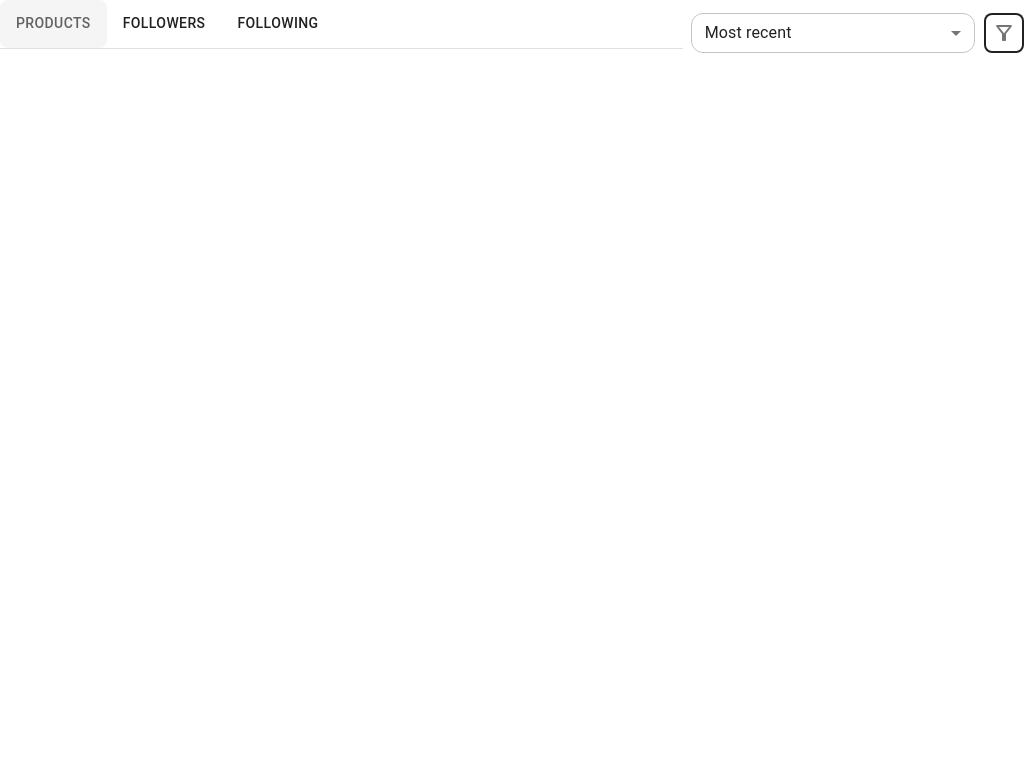
Test: ContentHeader › filter products category when selected checkbox filter product modal correctly
The width and height of the screenshot is (1024, 768).
Click the button with test id "ProductFilter_IconButton".
click(1004, 32)  # box top-left (984, 12), bottom-right (1023, 52)
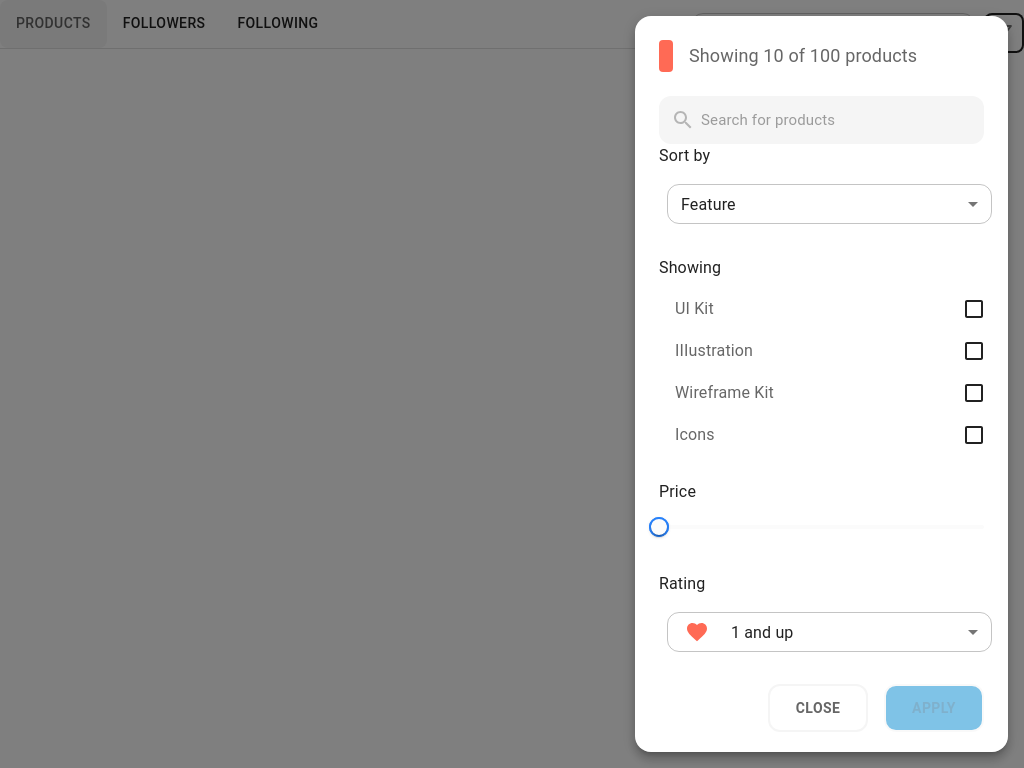
Now the element with test id "ProductFilter_Popover" is shown, box top-left (635, 16), bottom-right (1008, 752)
Click the text "UI Kit".
click(694, 309)  # box top-left (675, 297), bottom-right (714, 321)
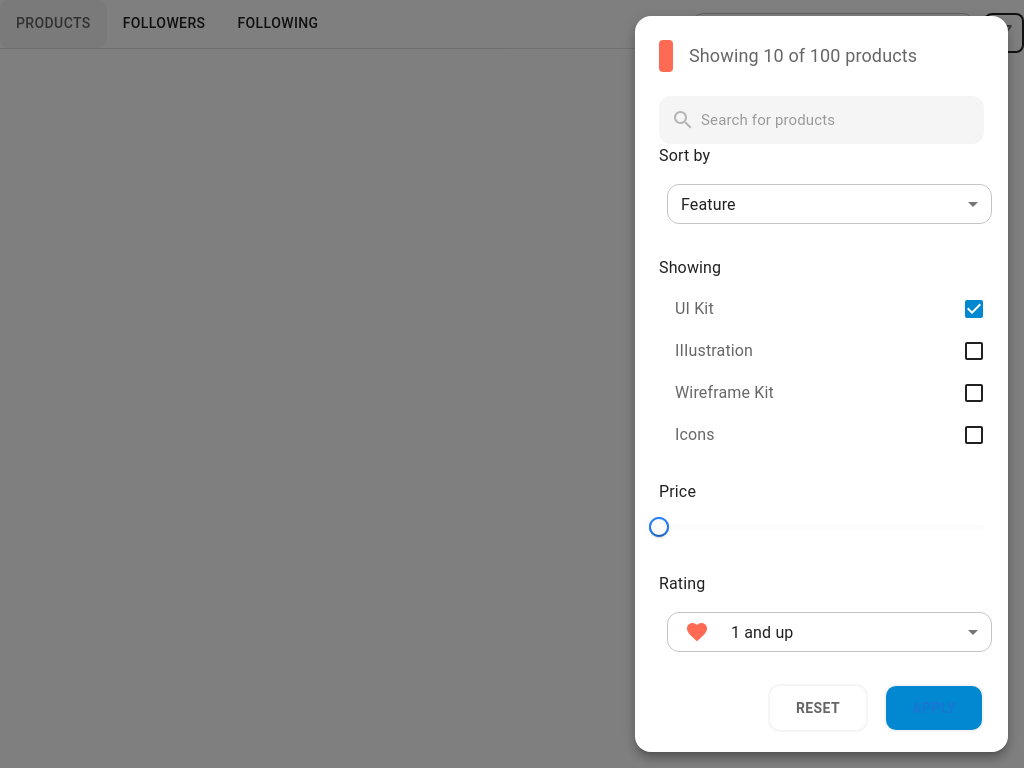
Click the button "Apply".
click(934, 708)  # box top-left (884, 684), bottom-right (984, 732)
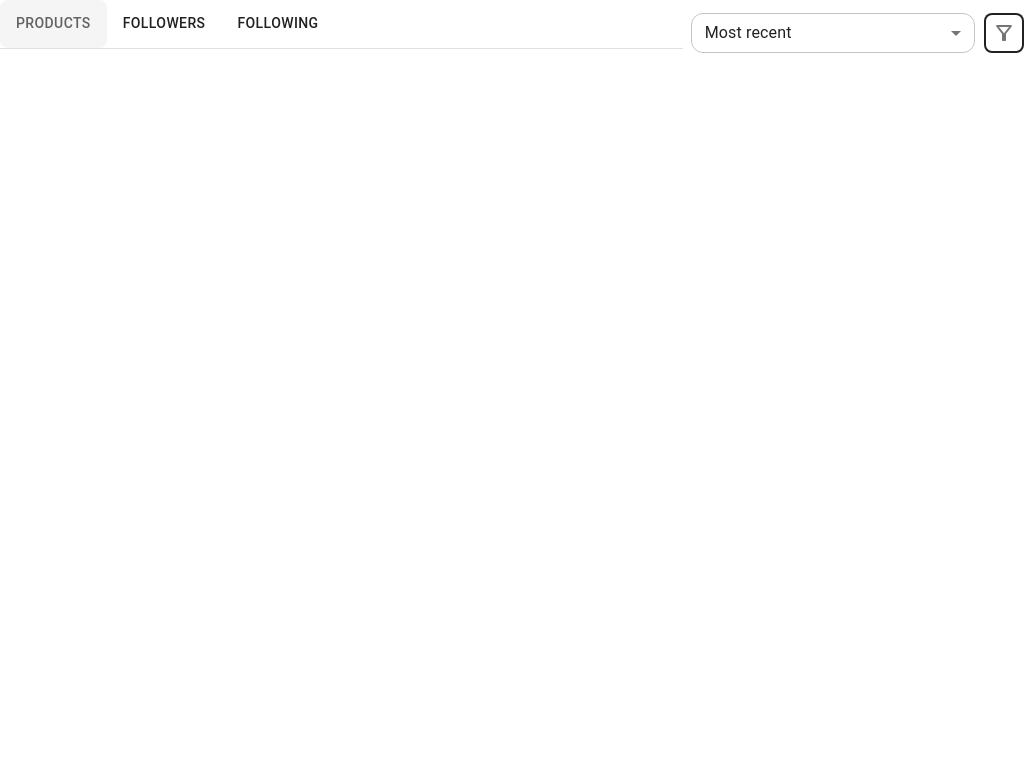
Now the element with test id "ProductFilter_Popover" is gone
